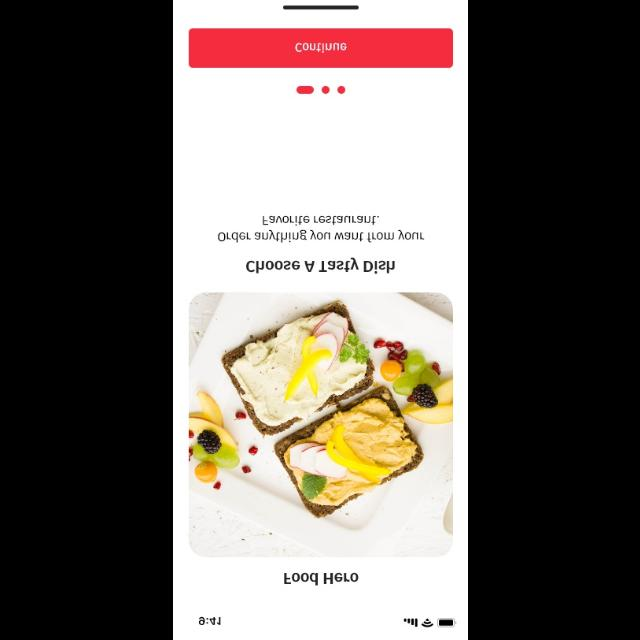image: (188, 292, 452, 556)
pageindicator: (296, 86, 346, 94)
text: (218, 215, 424, 243), (246, 258, 394, 274), (284, 572, 358, 586)
textbutton: (189, 28, 453, 68)
uppertaskbar: (198, 616, 456, 626)
